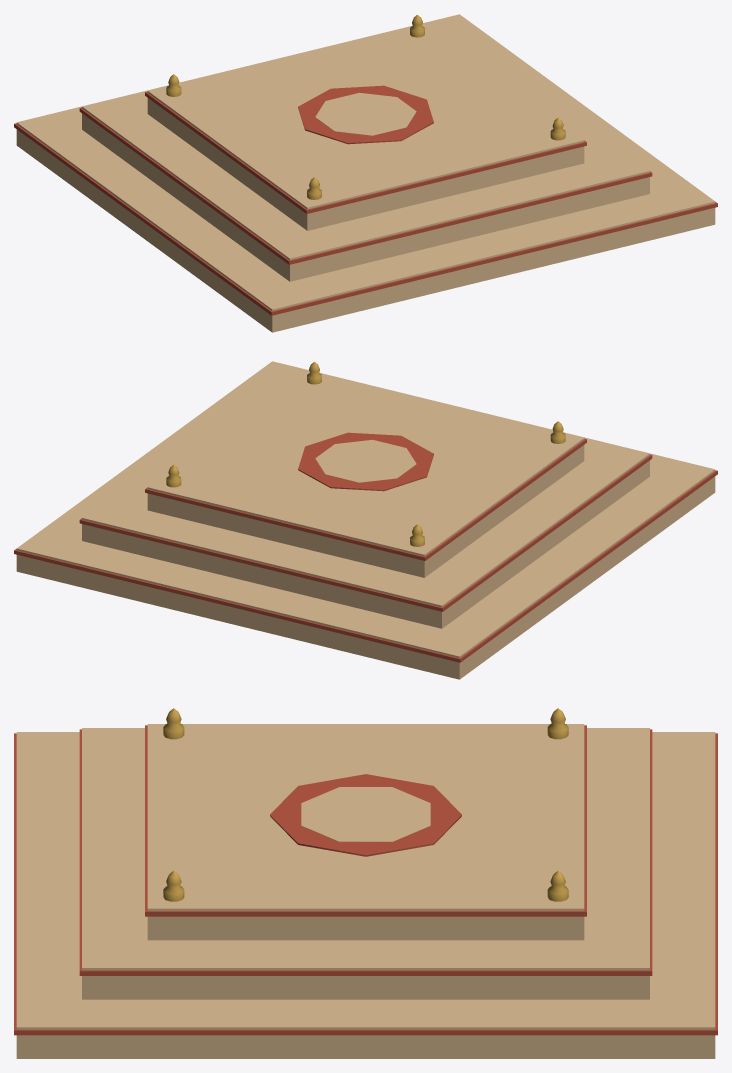
The model's file is mbs.shrine-platform.glb.
3 views of the same model, one above another, from view 1: azimuth 30°, elevation 25°; view 2: azimuth 150°, elevation 25°; view 3: azimuth 270°, elevation 25° (orthographic). The views are drawn at different scales.
Parts seen in each view (by area): view 1: Stepped Shrine Platform; view 2: Stepped Shrine Platform; view 3: Stepped Shrine Platform.
Boxes of the visible parts, <box> form: Stepped Shrine Platform: <box>14,14,717,332</box>; Stepped Shrine Platform: <box>14,361,717,679</box>; Stepped Shrine Platform: <box>14,708,717,1058</box>.
Bounding box in the file's own units: 8.06 × 1.54 × 8.06.
